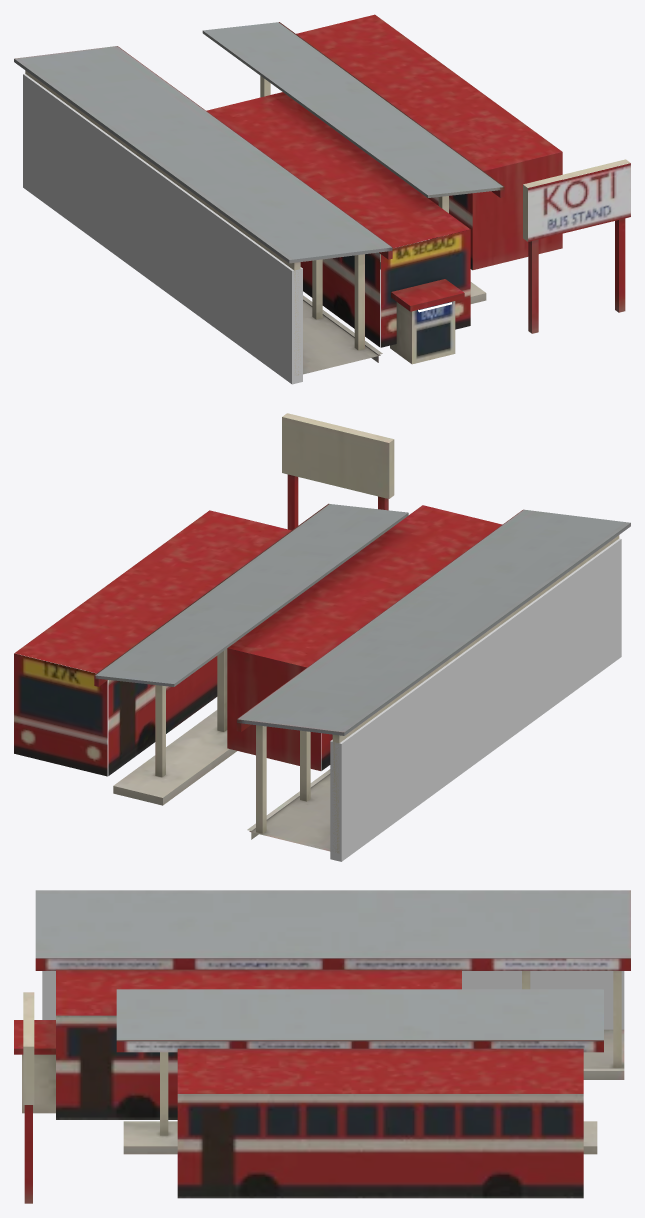
The model's file is koti_bus_stand.glb.
3 views of the same model, one above another, from view 1: azimuth 30°, elevation 25°; view 2: azimuth 150°, elevation 25°; view 3: azimuth 270°, elevation 25° (orthographic). The views are drawn at different scales.
Parts seen in each view (by area): view 1: koti_bus_stand_body, COL_koti_wall; view 2: koti_bus_stand_body, COL_koti_wall; view 3: koti_bus_stand_body, COL_koti_wall.
Boxes of the visible parts, x1,y1,x2,y2 form: koti_bus_stand_body: (14, 14, 630, 375); COL_koti_wall: (23, 74, 302, 384); koti_bus_stand_body: (14, 413, 630, 853); COL_koti_wall: (330, 538, 621, 861); koti_bus_stand_body: (14, 890, 630, 1203); COL_koti_wall: (42, 971, 624, 1029).
Bounding box in the file's own units: 62.65 × 26 × 91.2.
2 materials, 1 textured.
